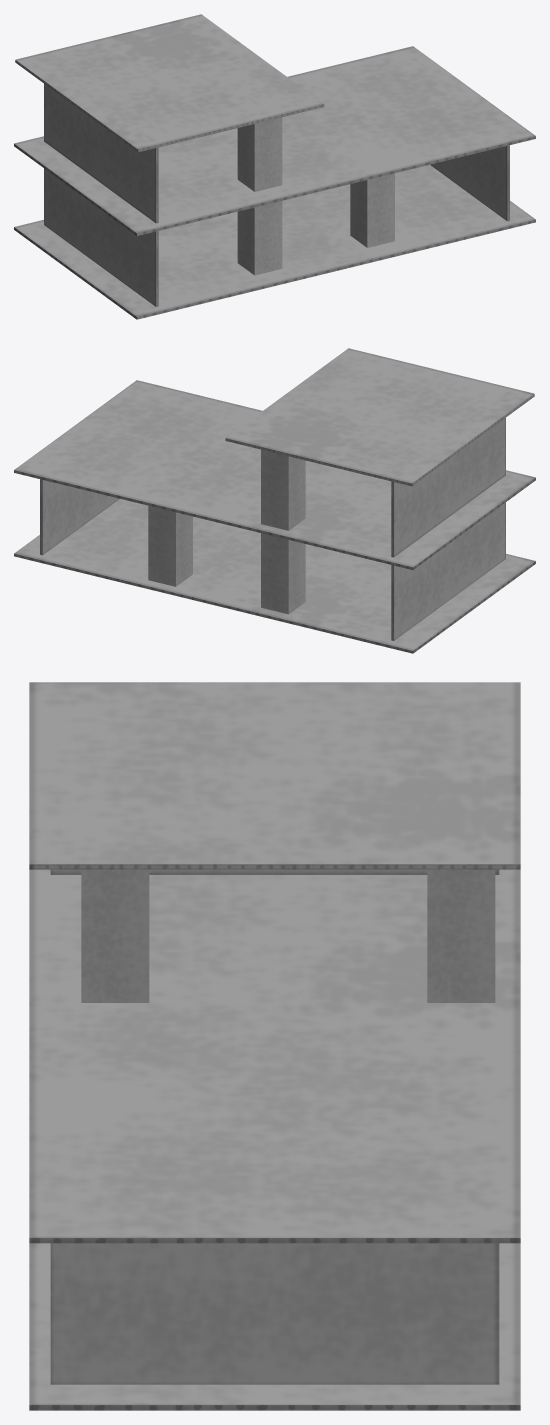
File: building construction.FBX
The picture shows the model from 3 angles, top to bottom: view 1: azimuth 30°, elevation 25°; view 2: azimuth 150°, elevation 25°; view 3: azimuth 270°, elevation 25°; orthographic projection. The views are drawn at different scales.
Parts seen in each view (by area): view 1: Box001; view 2: Box001; view 3: Box001.
Boxes of the visible parts, x1=… form: Box001: x1=14, y1=14, x2=535, y2=319; Box001: x1=14, y1=348, x2=535, y2=653; Box001: x1=29, y1=682, x2=520, y2=1410.
Size of the model in its own units: 15 by 6.23 by 8.
1 material, 1 textured.
